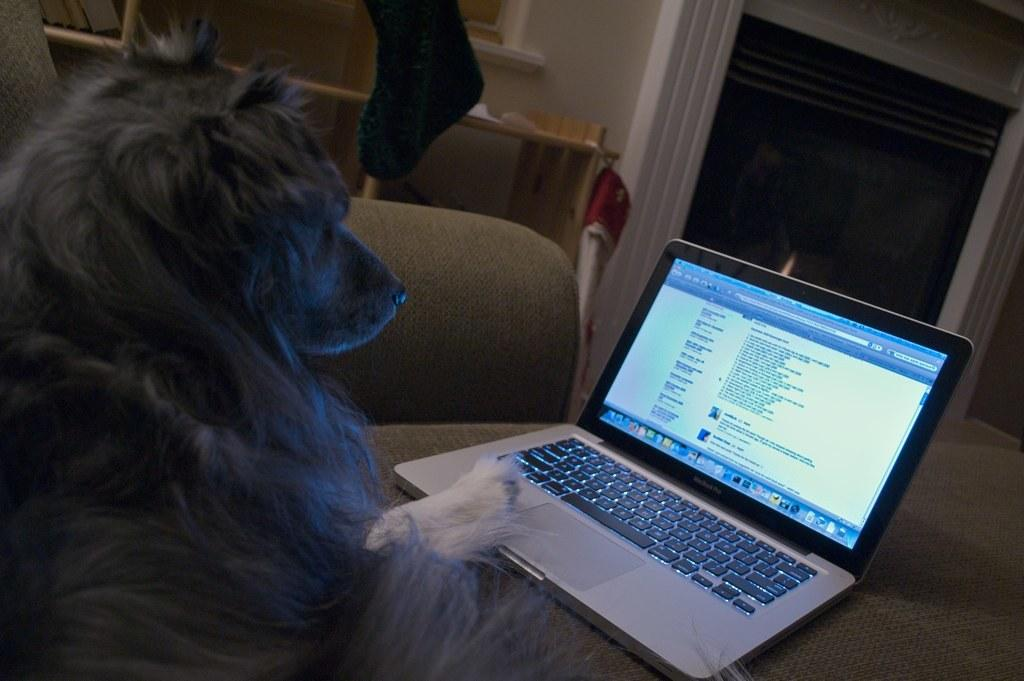Computer-keyboard: (497, 436, 816, 617)
Laptop: (372, 237, 955, 668)
